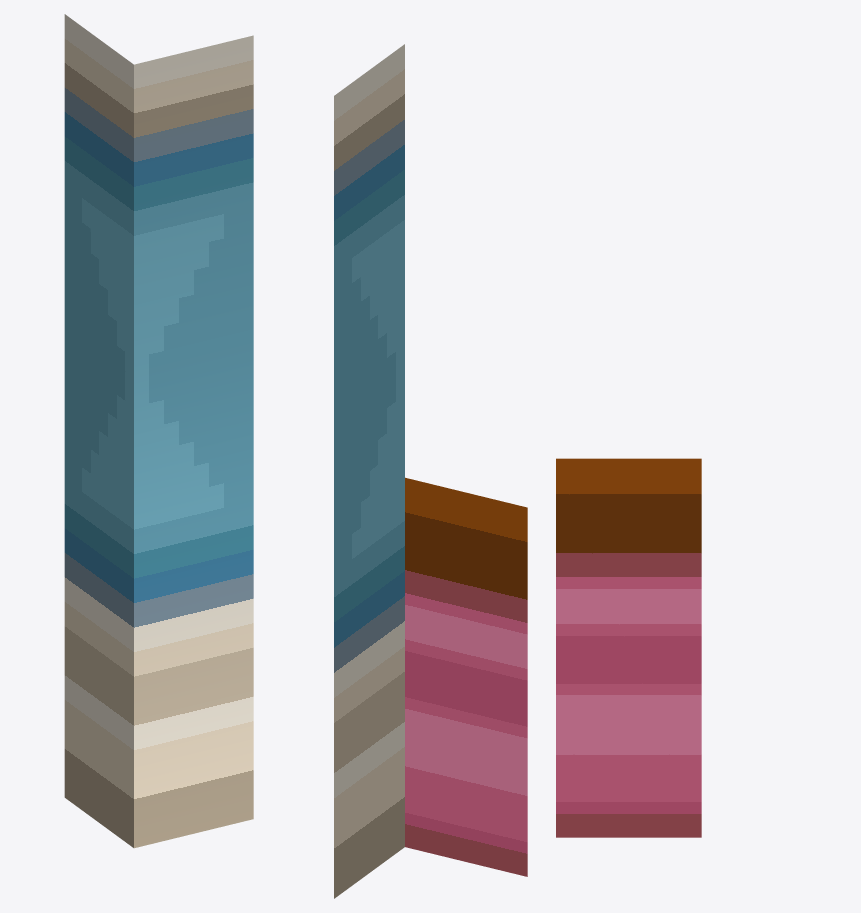
The picture shows the model from 3 angles, left to right: view 1: azimuth 30°, elevation 25°; view 2: azimuth 150°, elevation 25°; view 3: azimuth 270°, elevation 25°; orthographic projection. The views are drawn at different scales.
Size of the model in its own units: 1 by 3.12 by 1.
2 materials, 2 textured.
